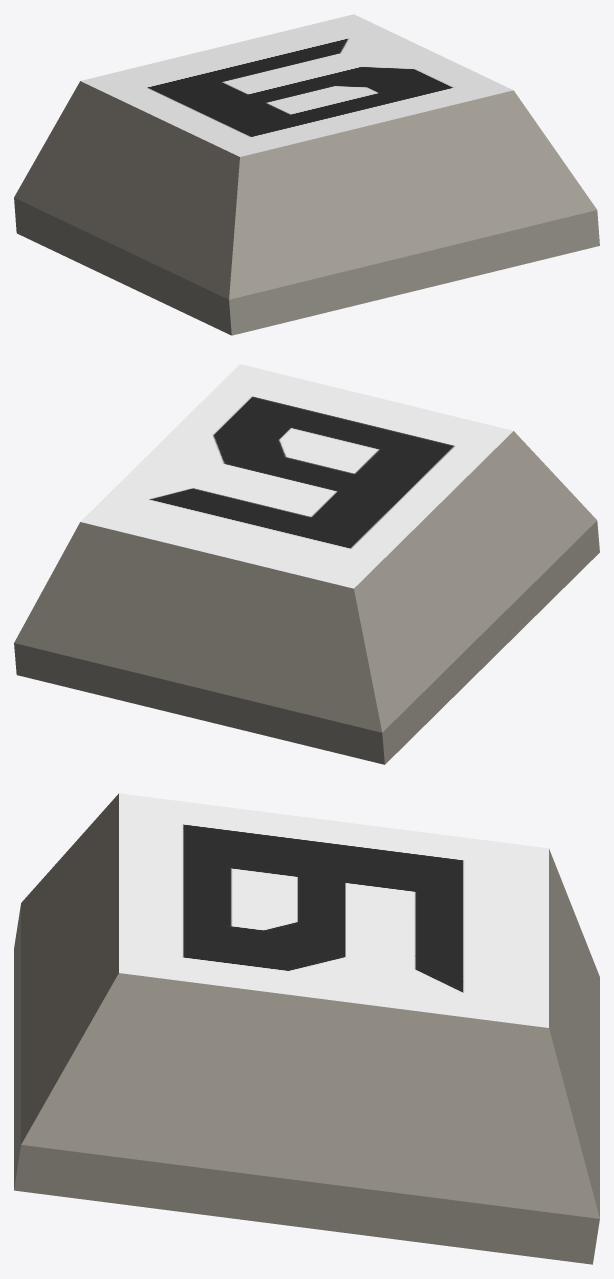
Rendered from key9.glb.
The picture shows the model from 3 angles, top to bottom: view 1: azimuth 30°, elevation 25°; view 2: azimuth 150°, elevation 25°; view 3: azimuth 270°, elevation 25°; orthographic projection. The views are drawn at different scales.
Parts seen in each view (by area): view 1: Cube.013; view 2: Cube.013; view 3: Cube.013.
Boxes of the visible parts, x1,y1,x2,y2 form: Cube.013: (14, 14, 599, 335); Cube.013: (14, 364, 599, 764); Cube.013: (14, 793, 599, 1264).
Bounding box in the file's own units: 0.1926 × 0.0968 × 0.1972.
Materials: 2 (1 with a texture image).
